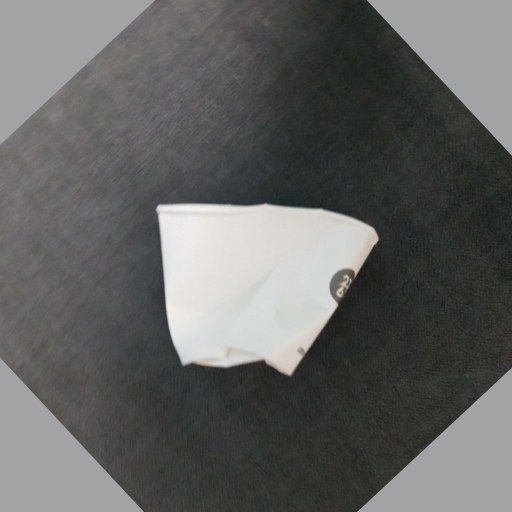Paper_1: (156, 196, 380, 382)
